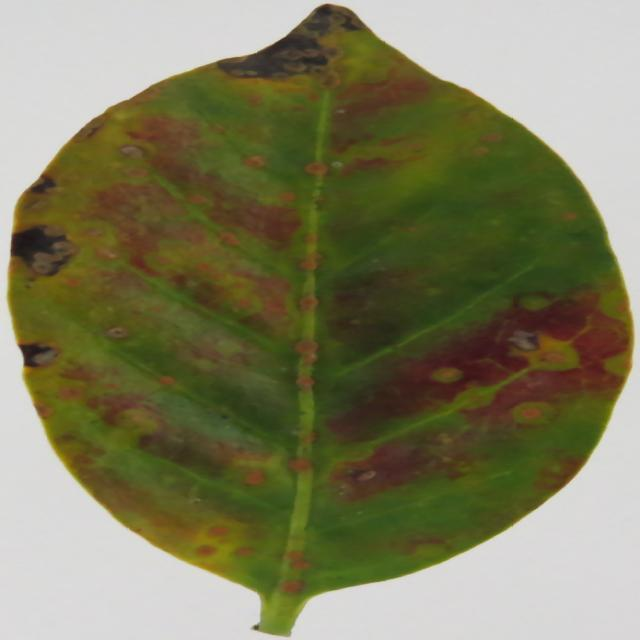DeficienciaNutricional-Fosforo: (10, 5, 626, 634)
